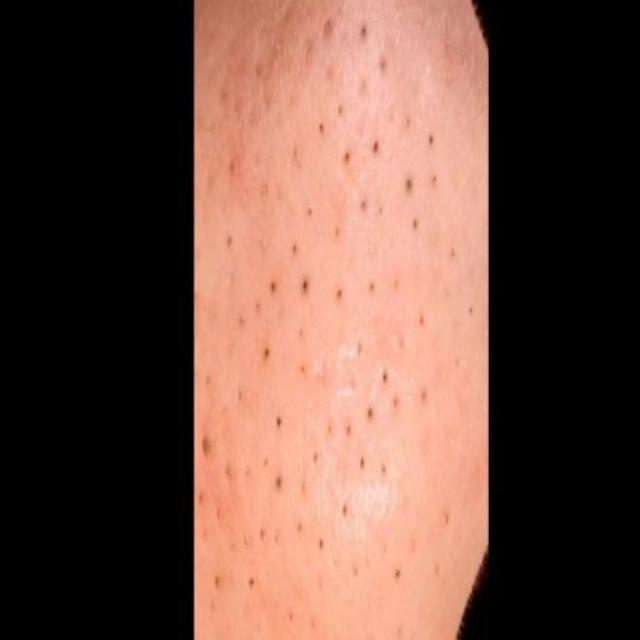blackhead: (226, 0, 438, 580)
